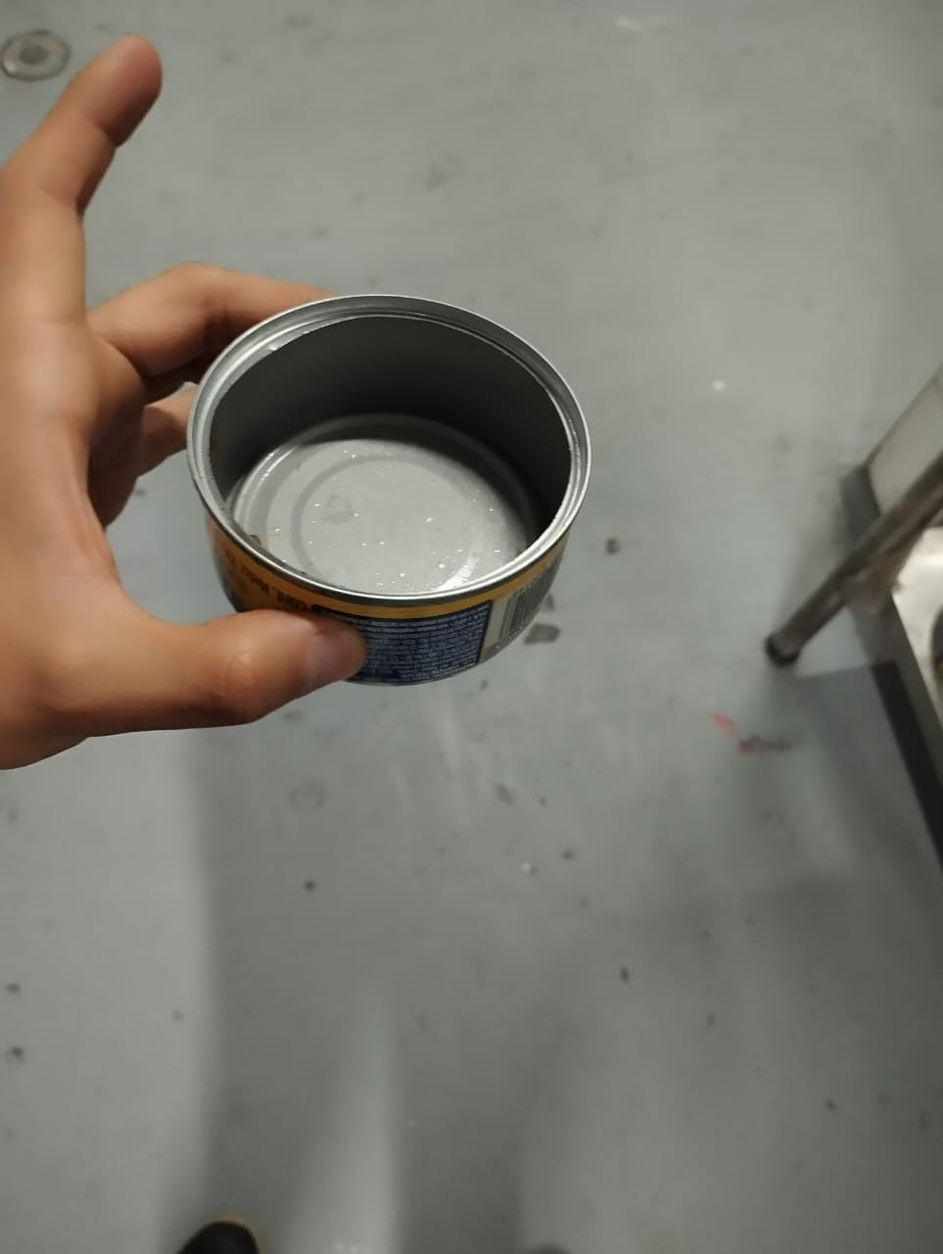Metal: (187, 292, 593, 686)
